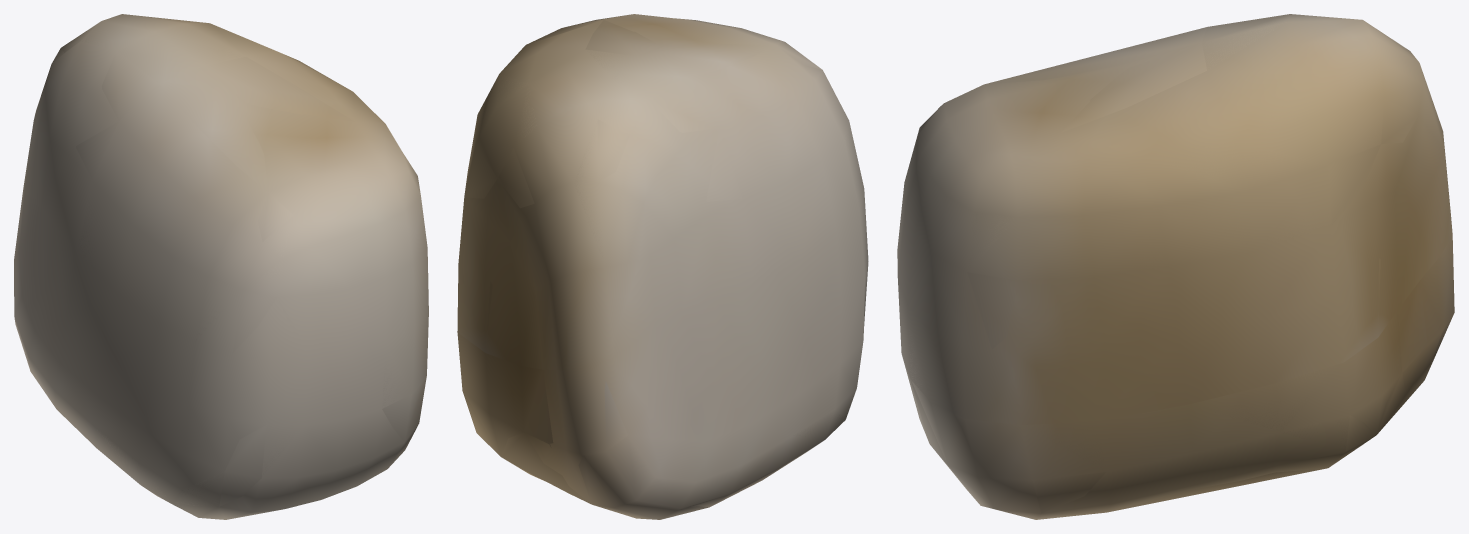
Rendered from R carpi intermedium.fbx.
3 renders of one model, left to right at view 1: azimuth 30°, elevation 25°; view 2: azimuth 150°, elevation 25°; view 3: azimuth 270°, elevation 25°, orthographic. The views are drawn at different scales.
Visible parts, largest first — view 1: R carpi intermedium, R carpi intermedium low; view 2: R carpi intermedium, R carpi intermedium low; view 3: R carpi intermedium, R carpi intermedium low.
Part boxes in pixels (x1,y1,x2,y2): R carpi intermedium: (14,14,428,519); R carpi intermedium low: (19,21,411,506); R carpi intermedium: (457,14,868,519); R carpi intermedium low: (462,20,859,519); R carpi intermedium: (897,14,1454,519); R carpi intermedium low: (909,14,1453,519).
Size of the model in its own units: 0.7779 by 1.08 by 1.2.
